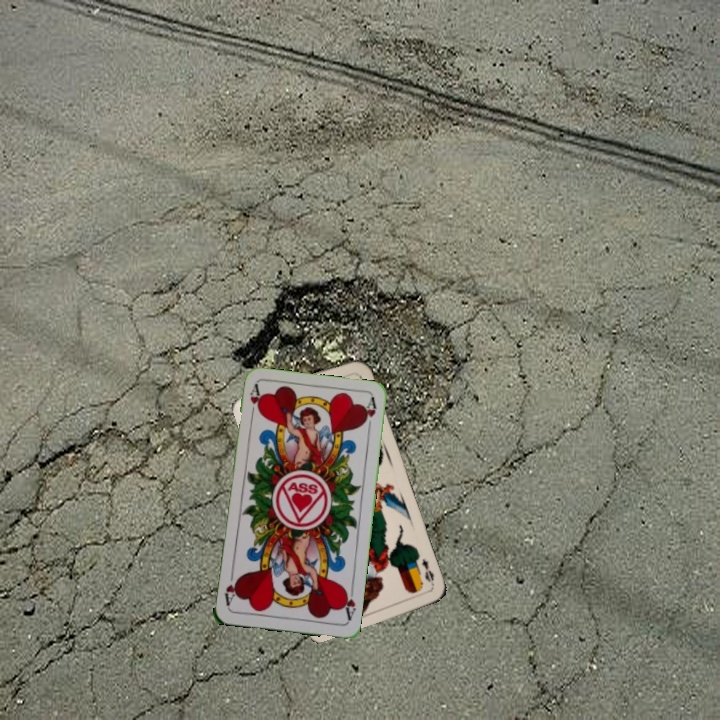EO: (417, 555, 437, 585)
HA: (338, 583, 358, 623), (246, 381, 262, 422)
